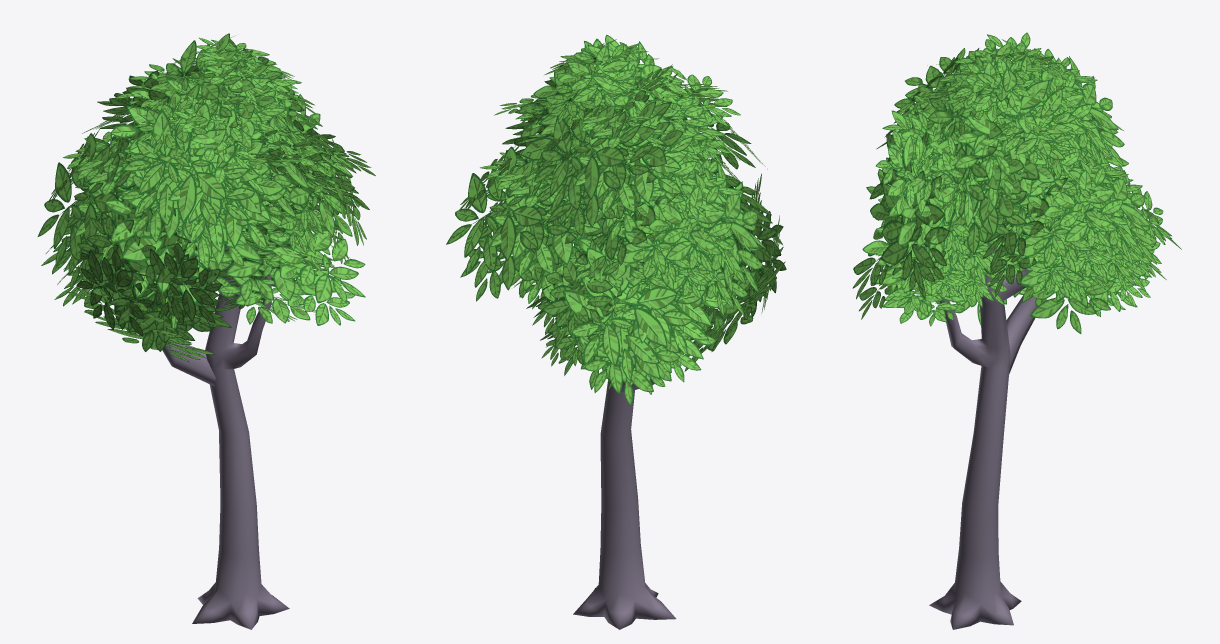
The model's file is Tree3.fbx.
3 renders of one model, left to right at view 1: azimuth 30°, elevation 25°; view 2: azimuth 150°, elevation 25°; view 3: azimuth 270°, elevation 25°, orthographic. The views are drawn at different scales.
Parts seen in each view (by area): view 1: Tree_22_group3_Leaf42; view 2: Tree_22_group3_Leaf42; view 3: Tree_22_group3_Leaf42.
Part boxes in pixels (x1,y1,x2,y2): Tree_22_group3_Leaf42: [37, 33, 375, 629]; Tree_22_group3_Leaf42: [446, 34, 786, 629]; Tree_22_group3_Leaf42: [852, 32, 1181, 629].
Size of the model in its own units: 7.94 by 14.63 by 8.56.
